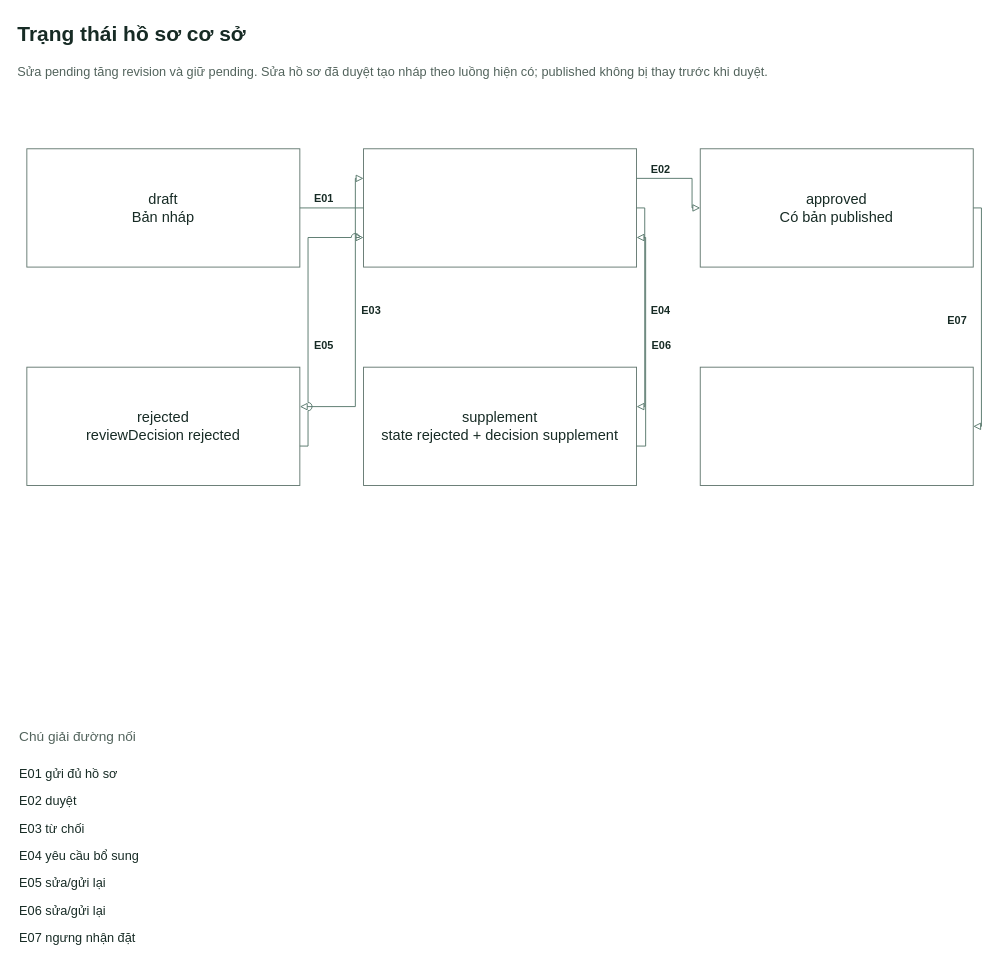
This 1005x965 diagram has some shape labels left out. Here are the shapes that lost their labels. From the top down, the box of each, then its label:
(363, 148, 637, 267): pending Chờ admin kiểm tra
(699, 366, 973, 485): suspended Cờ ngưng độc lập với state
